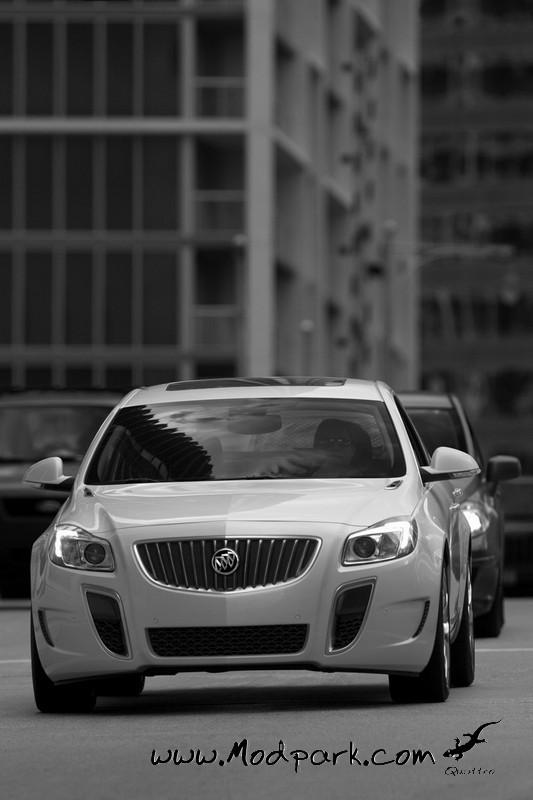car: (23, 365, 529, 717)
